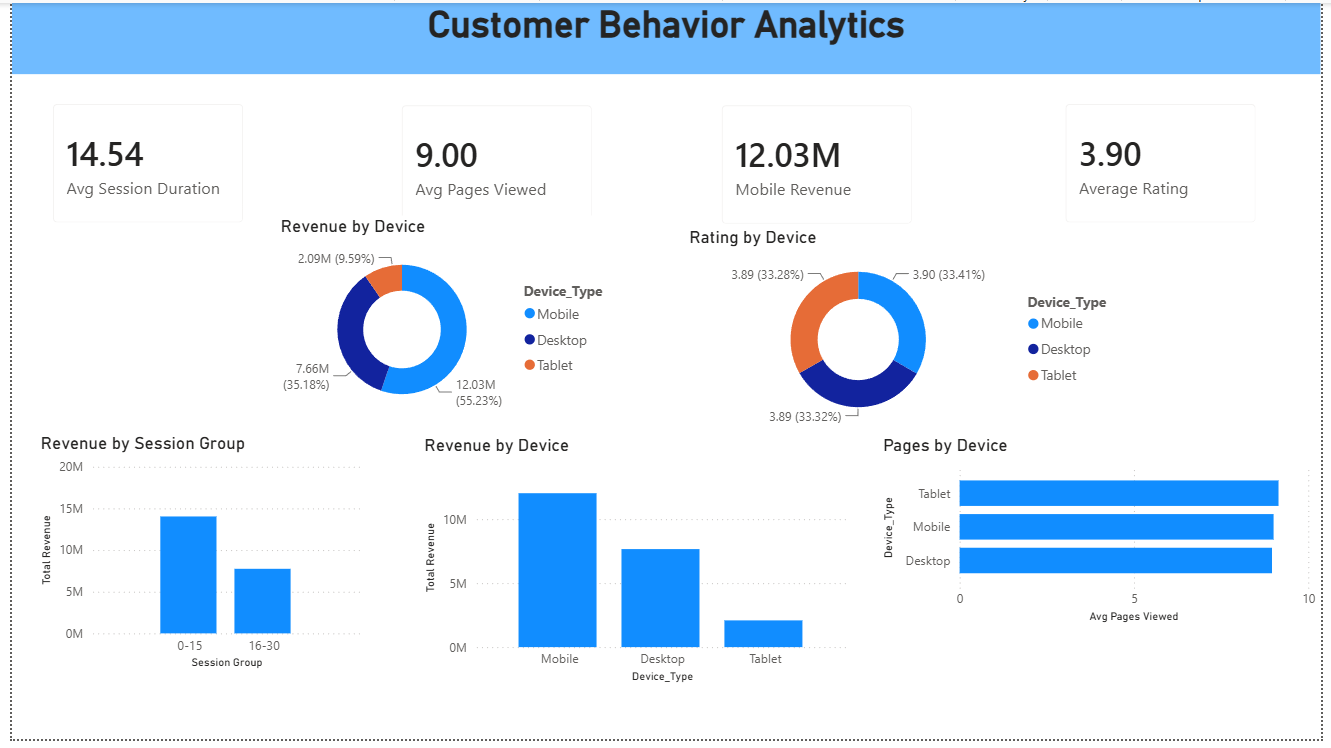

What the dashboard file says about the page in this screenshot:
{"tool":"powerbi","page":{"name":"Page 4","canvas":[1280,720],"ordinal":3},"visuals":[{"type":"textbox","title":"Customer Behavior Analytics","box":[0,0,1280.3,69.7],"z":0},{"type":"cardVisual","fields":{"Data":["Ecom.Avg Session Duration"]},"box":[23.2,81.9,220.1,150.4],"z":1000},{"type":"cardVisual","fields":{"Data":["Ecom.Avg Pages Viewed"]},"box":[364.4,83.2,220.1,150.4],"z":2000},{"type":"cardVisual","fields":{"Data":["Ecom.Mobile Revenue"]},"box":[677.4,83.2,220.1,150.4],"z":3000},{"type":"cardVisual","fields":{"Data":["Ecom.Average Rating"]},"box":[1013.7,81.9,220.1,150.4],"z":4000},{"type":"donutChart","title":"Revenue by Device","fields":{"Y":["Ecom.Total Revenue"],"Category":["Ecom.Device_Type"]},"box":[258,207.9,342.4,204.2],"z":5000},{"type":"columnChart","title":"Revenue by Device","fields":{"Category":["Ecom.Device_Type"],"Y":["Ecom.Total Revenue"]},"box":[398.6,421.9,424.3,248.2],"z":6000},{"type":"barChart","title":"Pages by Device","fields":{"Y":["Ecom.Avg Pages Viewed"],"Category":["Ecom.Device_Type"]},"box":[847.4,421.9,432.9,189.5],"z":7000},{"type":"donutChart","title":"Rating by Device","fields":{"Category":["Ecom.Device_Type"],"Y":["Avg(Ecom.Customer_Rating)"]},"box":[657.9,218.9,435.3,201.8],"z":8000},{"type":"columnChart","title":"Revenue by Session Group","fields":{"Category":["Ecom.Session Group"],"Y":["Ecom.Total Revenue"]},"box":[23.2,420.7,322.8,236],"z":9000}]}

Visuals, with their boxes in screenshot pixels (x1, y1, x2, y2), scaled from the page's 1280x720 canvas onto the 1331x748 screenshot:
"Customer Behavior Analytics" textbox: 0/0/1330/72
cardVisual - Ecom.Avg Session Duration: 24/85/253/241
cardVisual - Ecom.Avg Pages Viewed: 379/86/608/243
cardVisual - Ecom.Mobile Revenue: 704/86/933/243
cardVisual - Ecom.Average Rating: 1054/85/1283/241
"Revenue by Device" donutChart: 268/216/624/428
"Revenue by Device" columnChart: 414/438/856/696
"Pages by Device" barChart: 881/438/1330/635
"Rating by Device" donutChart: 684/227/1137/437
"Revenue by Session Group" columnChart: 24/437/360/682
